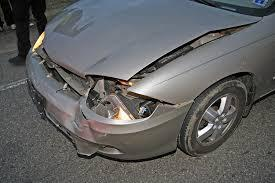bonnet-dent: (54, 5, 233, 70)
front-bumper-dent: (27, 79, 134, 149)
